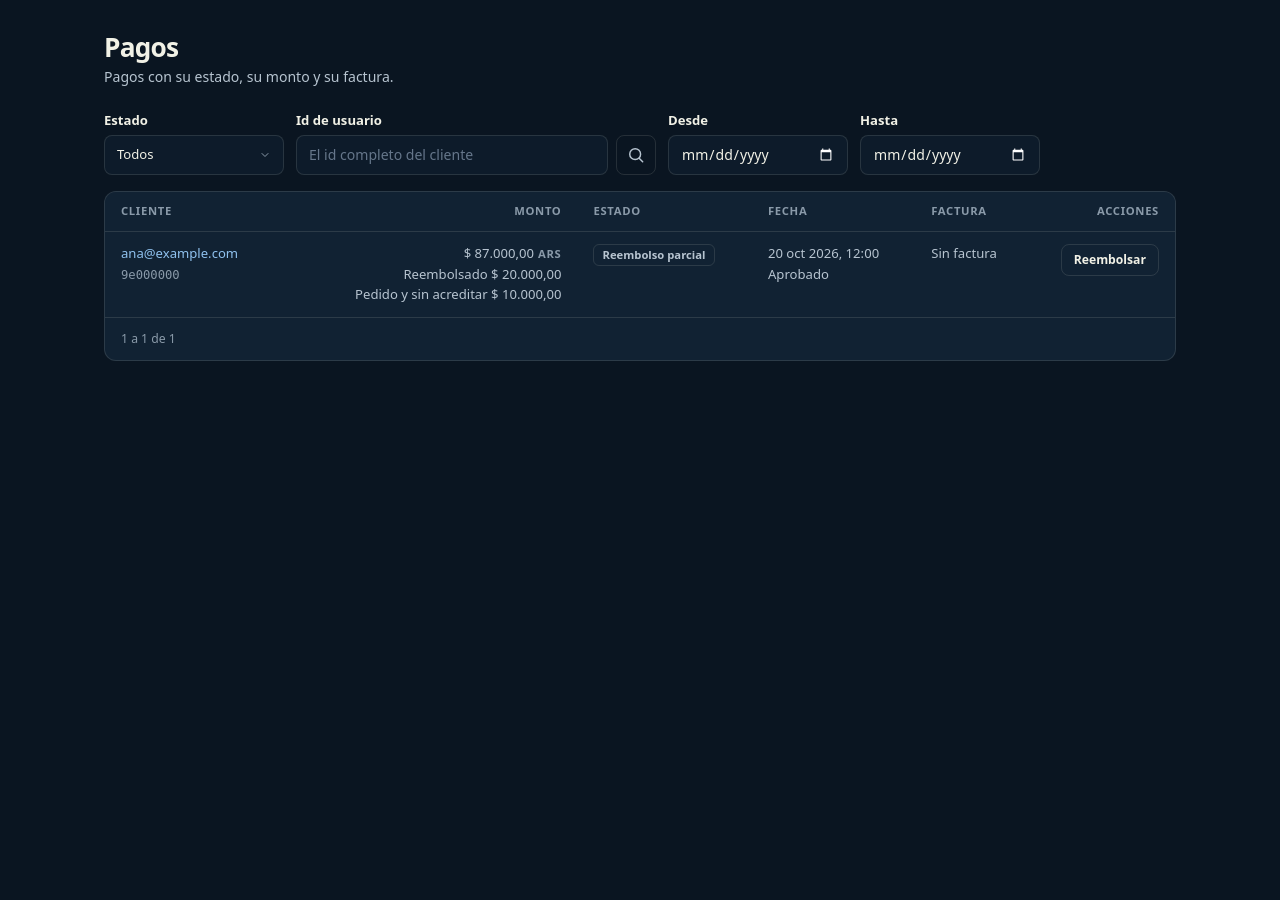
Test case: payments screen › tells what Mercado Pago answered to the refund {"status":"REQUESTED","providerRefundId":"rf-9"}
This screenshot has width=1280, height=900.
Step 1. Click the button with aria-label "Reembolsar el pago 9e000000" → (1110,260), box [1061, 244, 1159, 276]
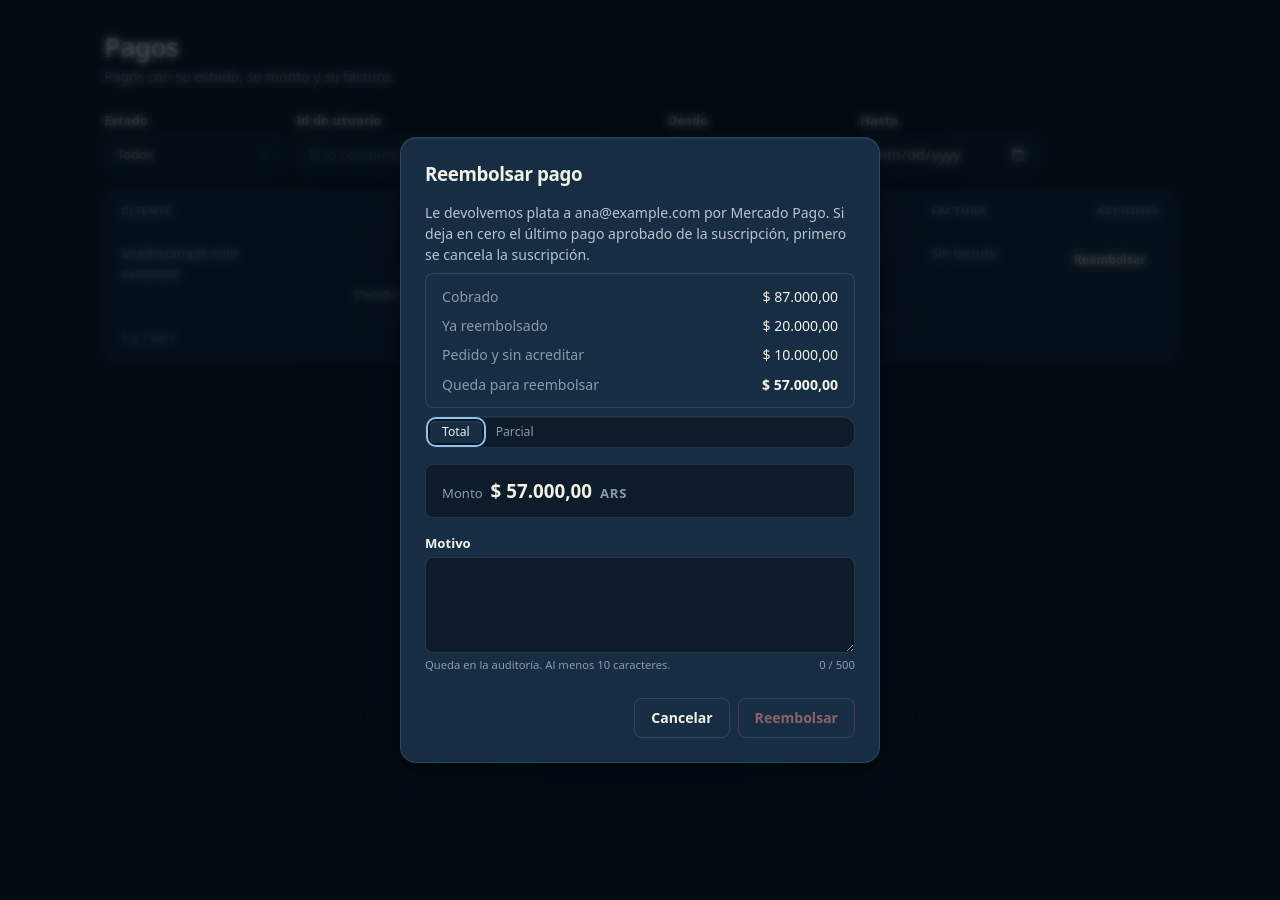
Step 2. Type "El cliente pidió la baja" into the text box labelled "Motivo" → (640,606), box [425, 558, 855, 654]
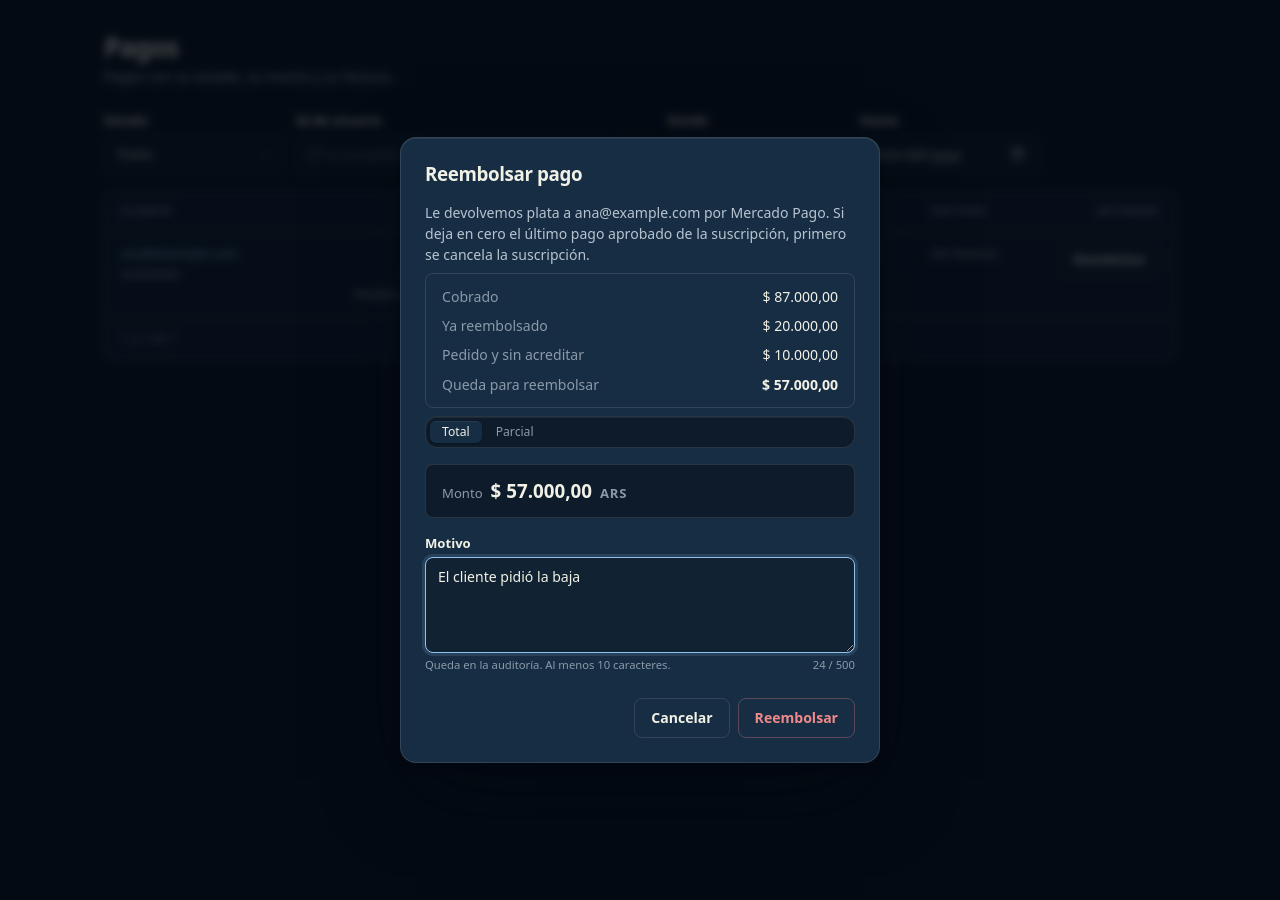
Step 3. Click the button "Reembolsar" → (796,718), box [738, 698, 855, 738]
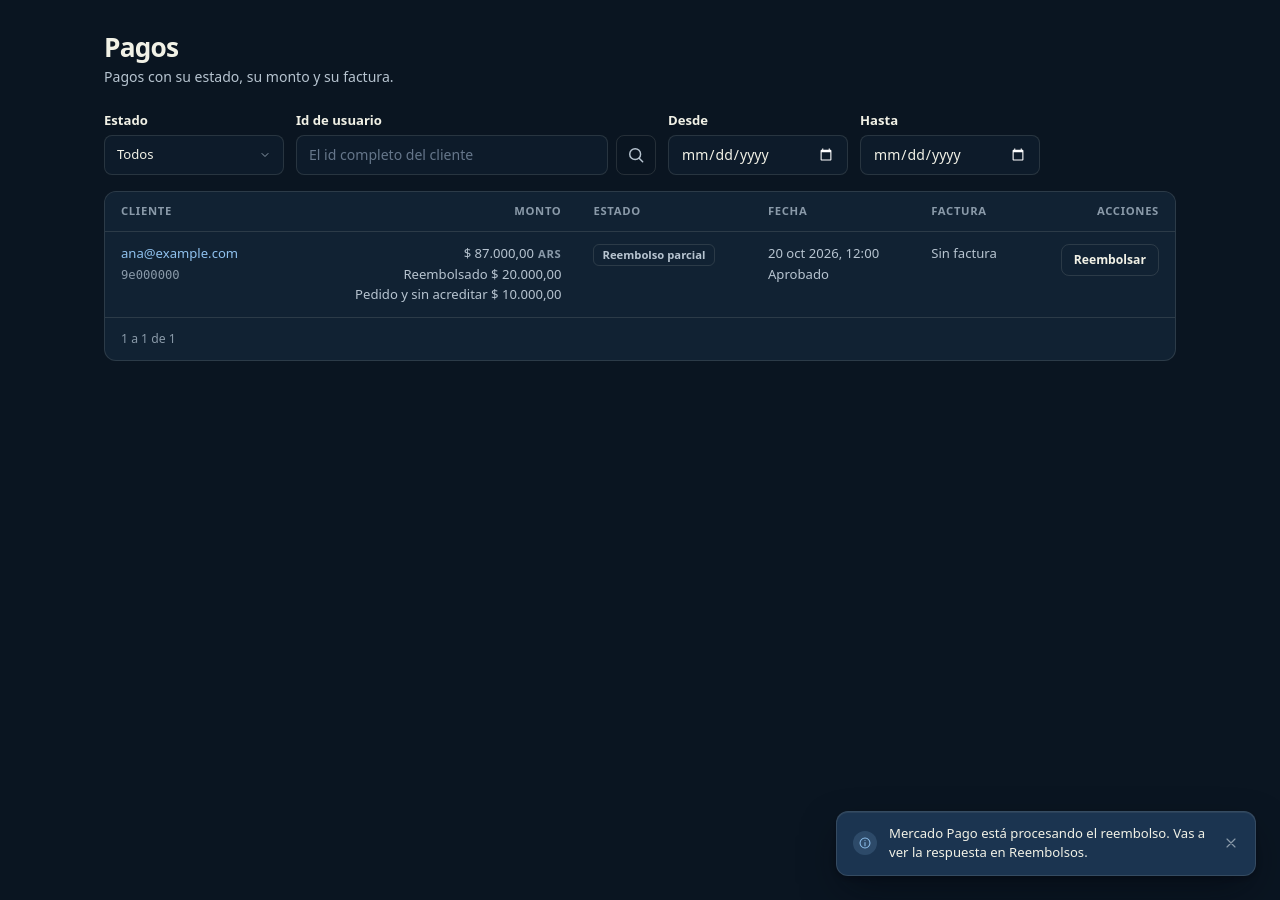
Now the text "Mercado Pago está procesando el reembolso. Vas a ver la respuesta en Reembolsos." is shown, box [889, 824, 1207, 863]
